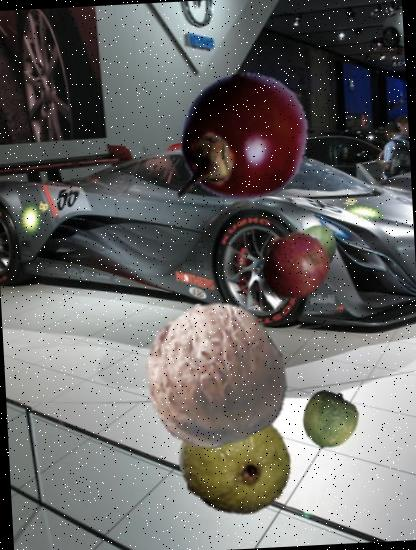Guava: (173, 399, 297, 523)
Limes: (299, 390, 360, 450)
Mango: (283, 221, 342, 281)
Pomegranate: (258, 228, 332, 302)
Tamarillo: (166, 62, 314, 210)
Walnut: (140, 298, 294, 452)
